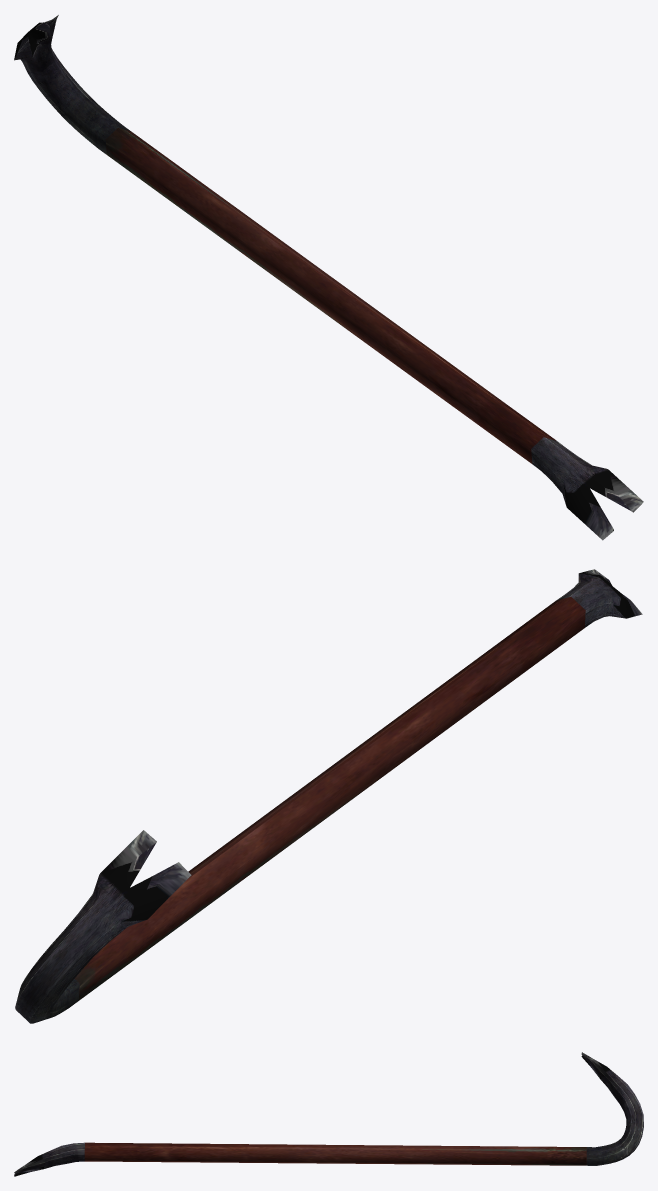
File: crowbar.obj
The picture shows the model from 3 angles, top to bottom: view 1: azimuth 30°, elevation 25°; view 2: azimuth 150°, elevation 25°; view 3: azimuth 270°, elevation 25°; orthographic projection. The views are drawn at different scales.
Visible parts, largest first — view 1: w_Crowbar_reference; view 2: w_Crowbar_reference; view 3: w_Crowbar_reference.
Part boxes in pixels (x1,y1,x2,y2): w_Crowbar_reference: (14, 15, 643, 540); w_Crowbar_reference: (15, 569, 642, 1023); w_Crowbar_reference: (14, 1052, 643, 1176).
Size of what is drawn, in the model's own units: 0.7143 by 0.8988 by 4.74.
2 materials, 2 textured.
